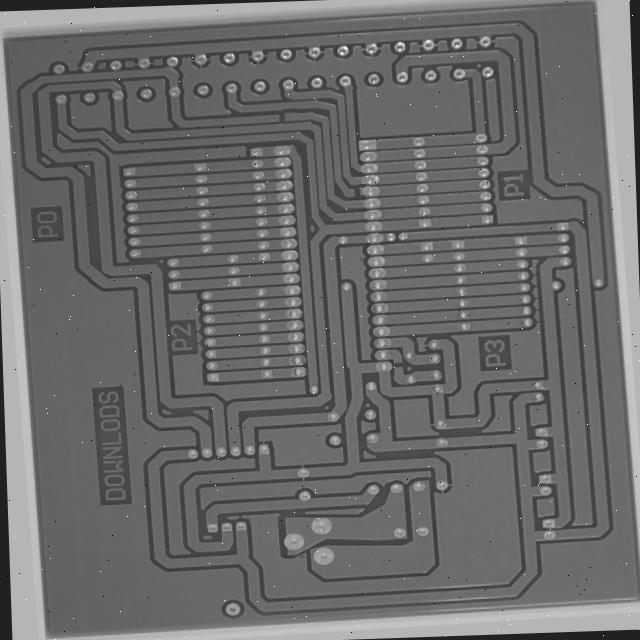open_circuit: (391, 361, 407, 374), (281, 104, 296, 117), (357, 184, 369, 196)
